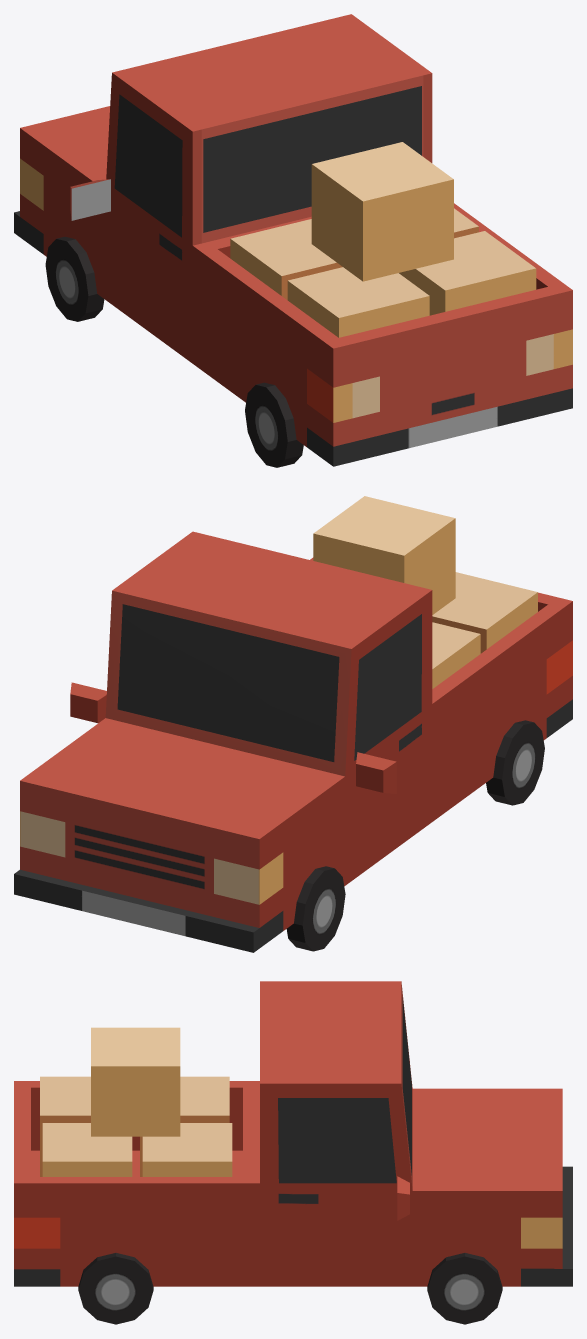
File: ute_mesh.fbx
The picture shows the model from 3 angles, top to bottom: view 1: azimuth 30°, elevation 25°; view 2: azimuth 150°, elevation 25°; view 3: azimuth 270°, elevation 25°; orthographic projection. The views are drawn at different scales.
Parts seen in each view (by area): view 1: ute_mesh; view 2: ute_mesh; view 3: ute_mesh.
Part boxes in pixels (x1,y1,x2,y2): ute_mesh: [14, 14, 572, 467]; ute_mesh: [14, 496, 572, 952]; ute_mesh: [14, 981, 572, 1324].
Bounding box in the file's own units: 3.16 × 2.52 × 5.38.
